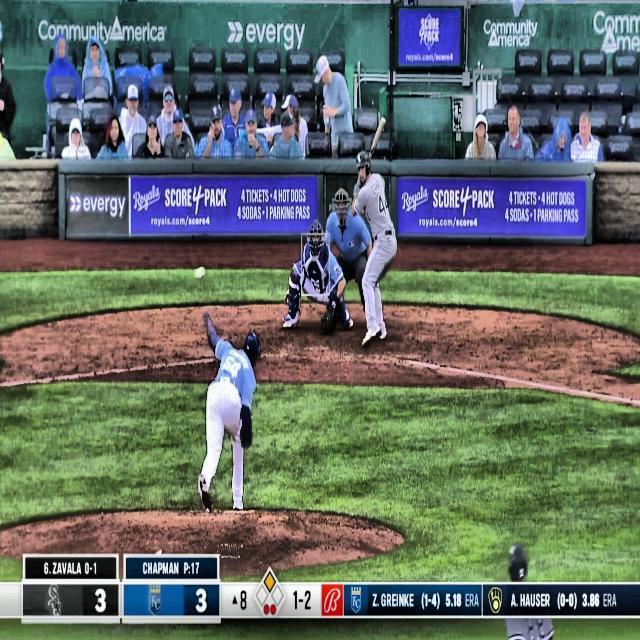baseball: (193, 265, 206, 280)
